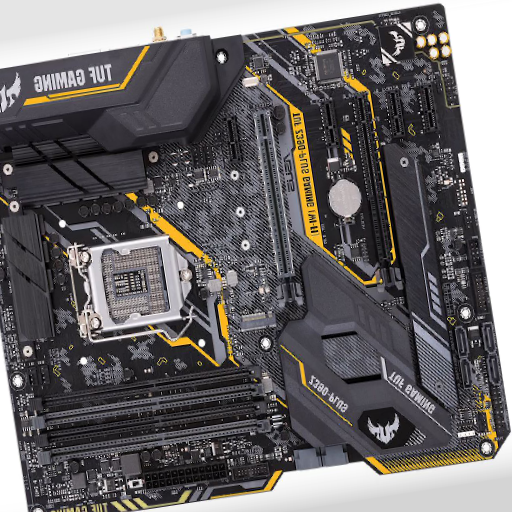CPU: (70, 236, 193, 337)
GPU: (352, 91, 407, 293), (252, 110, 303, 310), (241, 311, 277, 333)
MOTHERBOARD: (1, 5, 506, 512)
RAM: (28, 364, 274, 467)
